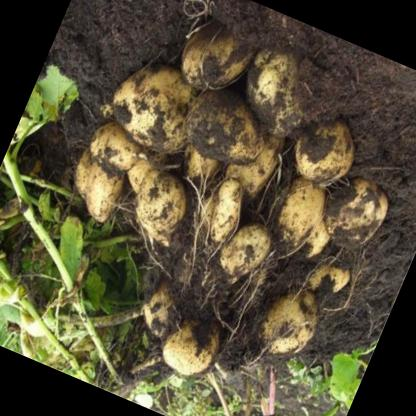potato: (98, 46, 221, 166), (229, 34, 331, 144), (174, 77, 280, 178), (311, 163, 398, 258), (247, 277, 329, 370), (283, 104, 367, 194), (121, 164, 198, 250), (154, 307, 229, 385), (72, 140, 138, 227), (212, 211, 278, 287), (84, 112, 150, 178), (198, 172, 254, 249)
